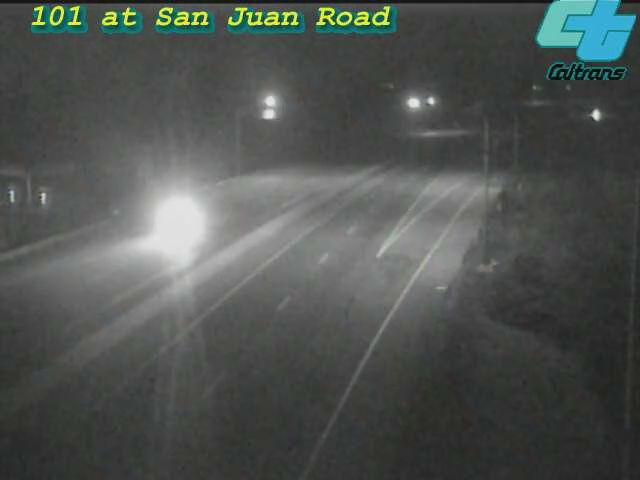vehicle: (140, 181, 220, 261), (578, 90, 628, 140)
